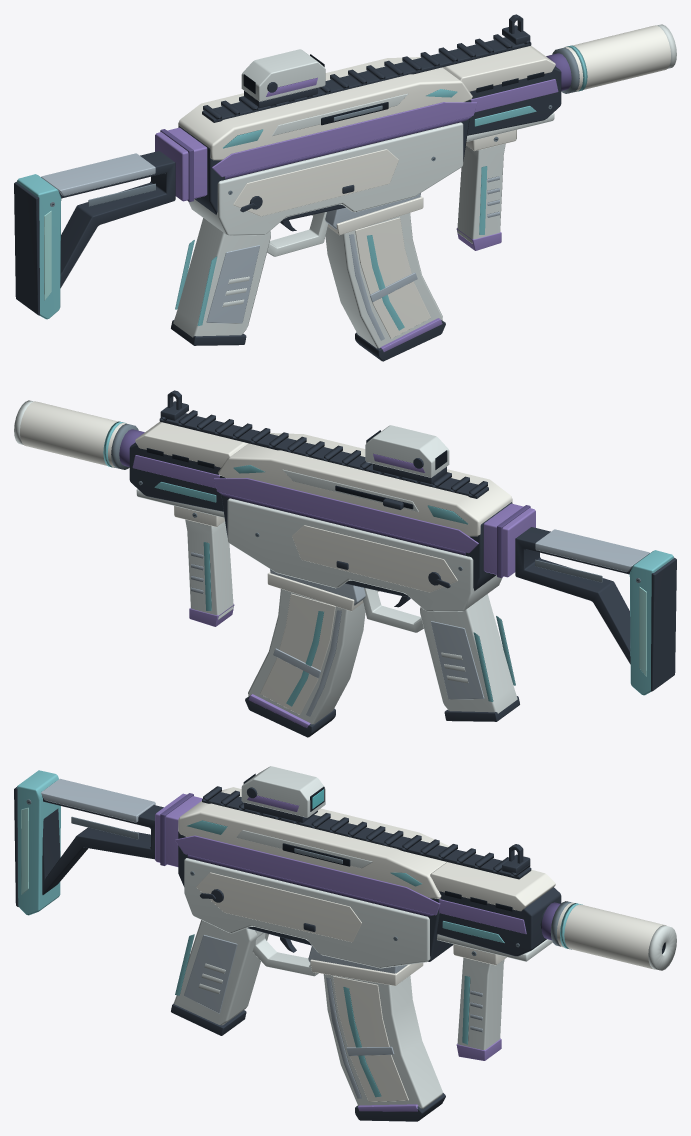
Rendered from SM_Mint_SMG_Heavy.glb.
3 views of the same model, one above another, from view 1: azimuth 30°, elevation 25°; view 2: azimuth 150°, elevation 25°; view 3: azimuth 330°, elevation 25° (orthographic).
Parts seen in each view (by area): view 1: SM_Mint_SMG_Heavy; view 2: SM_Mint_SMG_Heavy; view 3: SM_Mint_SMG_Heavy.
Part boxes in pixels (x1,y1,x2,y2): SM_Mint_SMG_Heavy: [14, 14, 676, 361]; SM_Mint_SMG_Heavy: [14, 390, 676, 737]; SM_Mint_SMG_Heavy: [14, 766, 676, 1121].
Size of the model in its own units: 0.6815 by 0.3183 by 0.0785.
